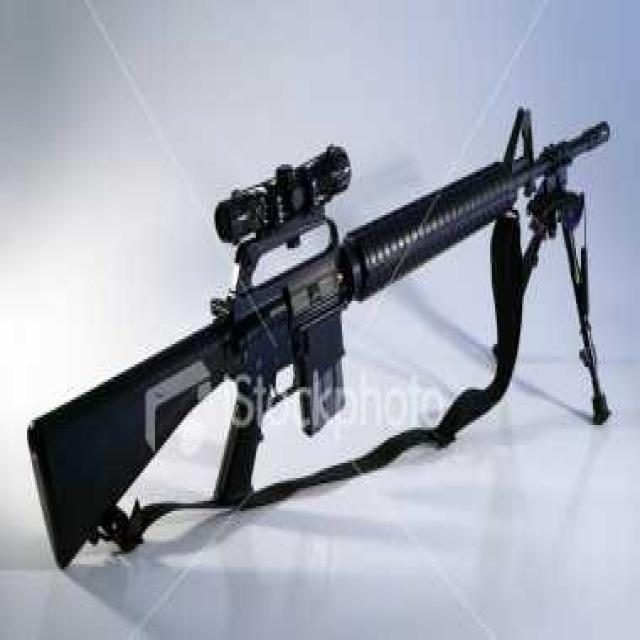RifleTel: (20, 104, 618, 592)
